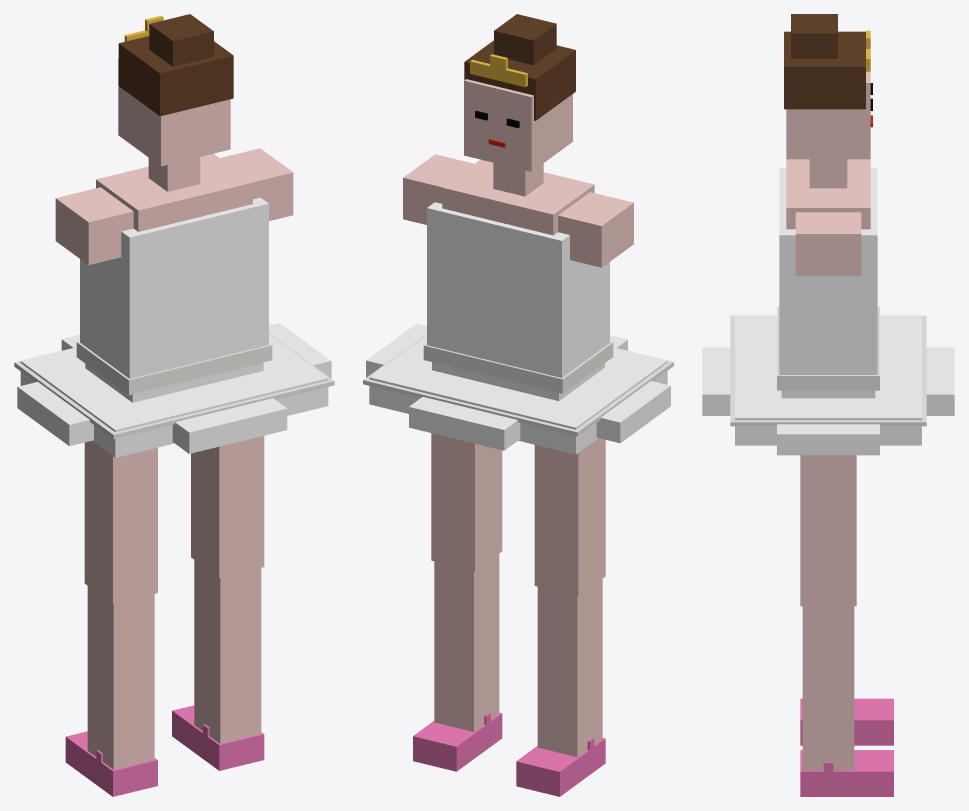
File: DANCER.gltf
3 renders of one model, left to right at view 1: azimuth 30°, elevation 25°; view 2: azimuth 150°, elevation 25°; view 3: azimuth 270°, elevation 25°, orthographic. The views are drawn at different scales.
Parts seen in each view (by area): view 1: DANCER; view 2: DANCER; view 3: DANCER.
Part boxes in pixels (<box>): DANCER: <box>14,14,334,796</box>; DANCER: <box>363,14,673,796</box>; DANCER: <box>702,14,954,796</box>.
Bounding box in the file's own units: 0.64 × 1.74 × 0.54.
